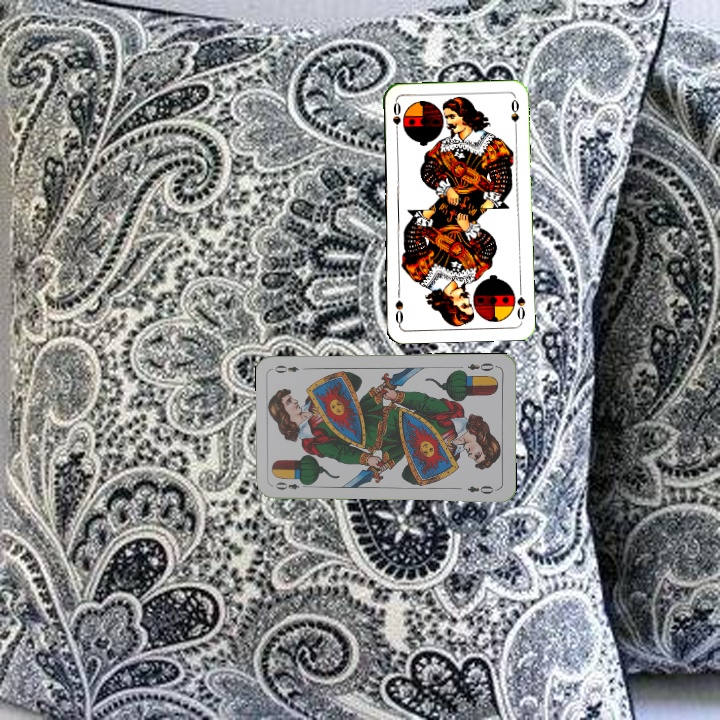EO: (271, 478, 311, 492), (464, 359, 499, 374)
SO: (389, 98, 403, 139), (513, 283, 527, 324)
